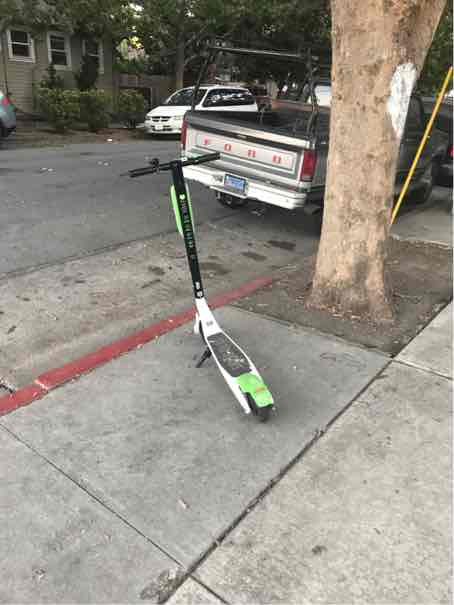scooter: (119, 136, 285, 434)
